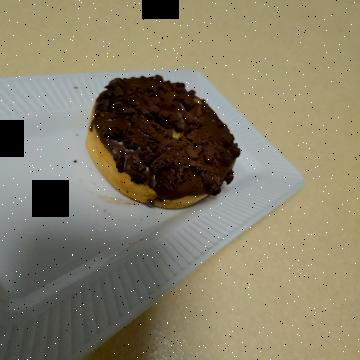doughnut: (59, 111, 225, 284)
